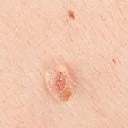Wart: (46, 64, 77, 103)
